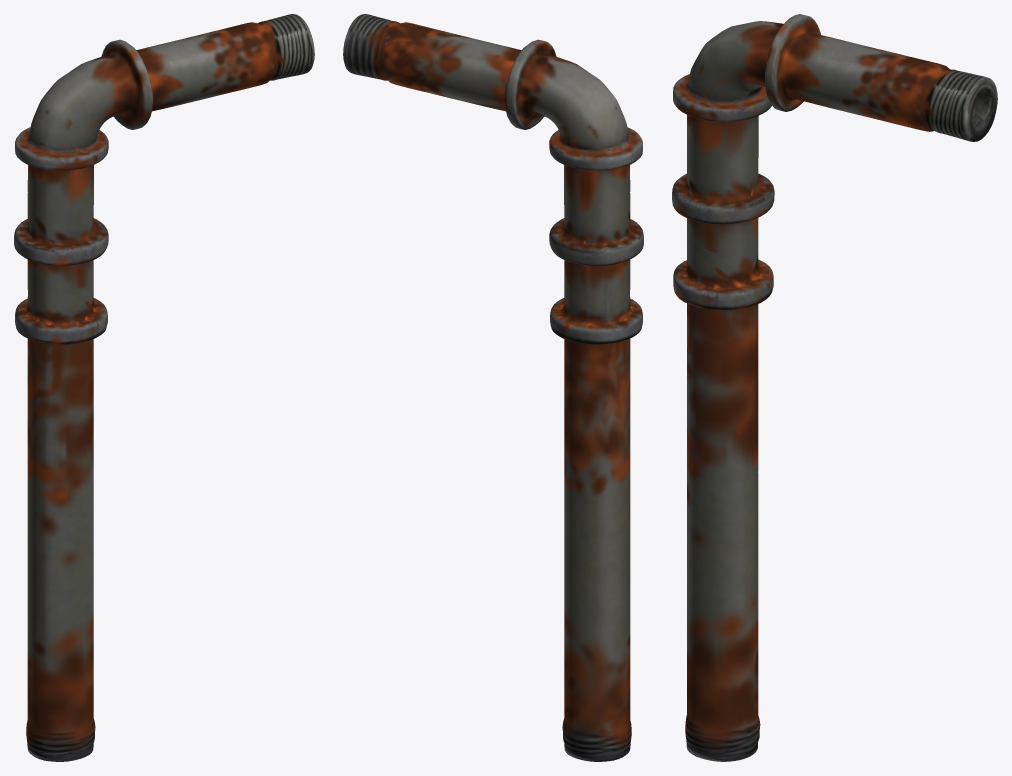
Rendered from rusty_pipe.glb.
3 renders of one model, left to right at view 1: azimuth 30°, elevation 25°; view 2: azimuth 150°, elevation 25°; view 3: azimuth 330°, elevation 25°, orthographic. The views are drawn at different scales.
Visible parts, largest first — view 1: Mesh_0; view 2: Mesh_0; view 3: Mesh_0.
Boxes of the visible parts, x1,y1,x2,y2 form: Mesh_0: [14, 14, 314, 761]; Mesh_0: [343, 14, 643, 761]; Mesh_0: [672, 14, 997, 761].
Bounding box in the file's own units: 0.852 × 2 × 0.2461.
1 material, 1 textured.
